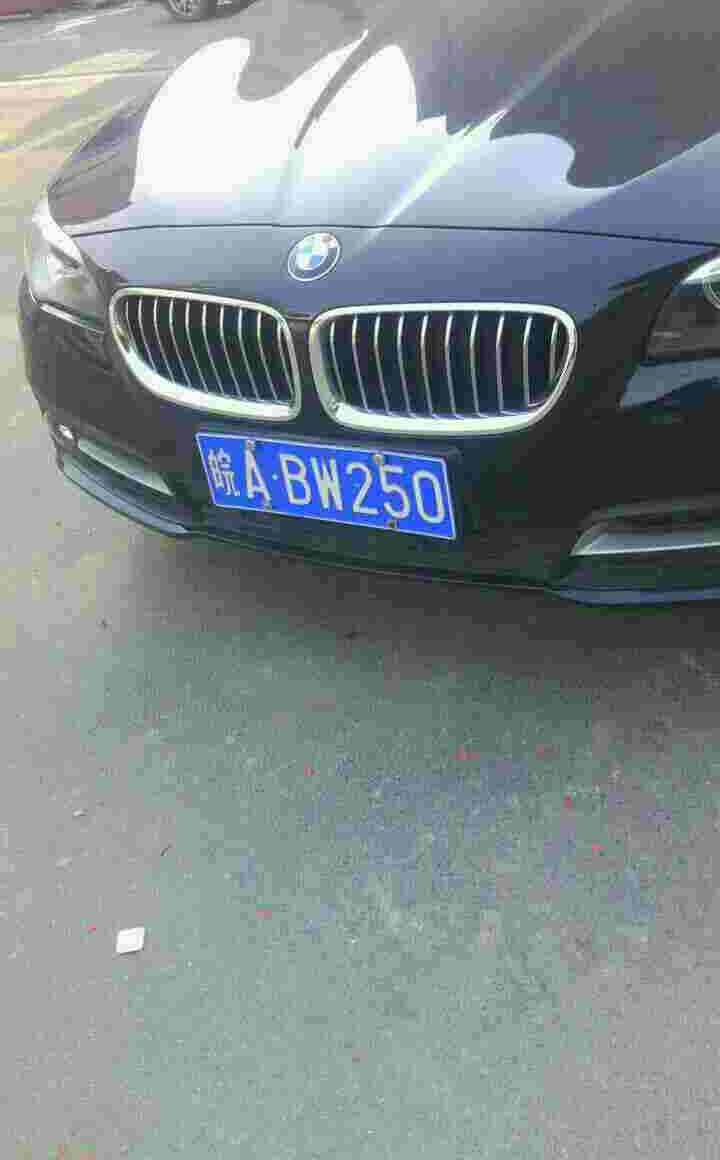license_plate: (202, 436, 454, 545)
